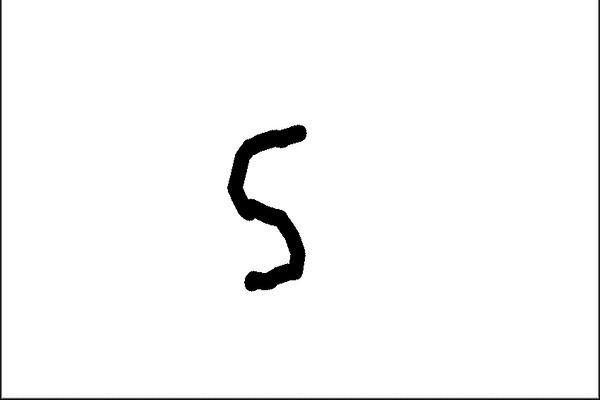S: (224, 120, 310, 296)
